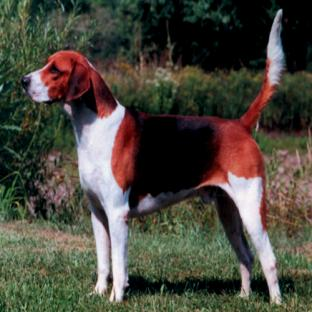Animal: (22, 9, 283, 303)
